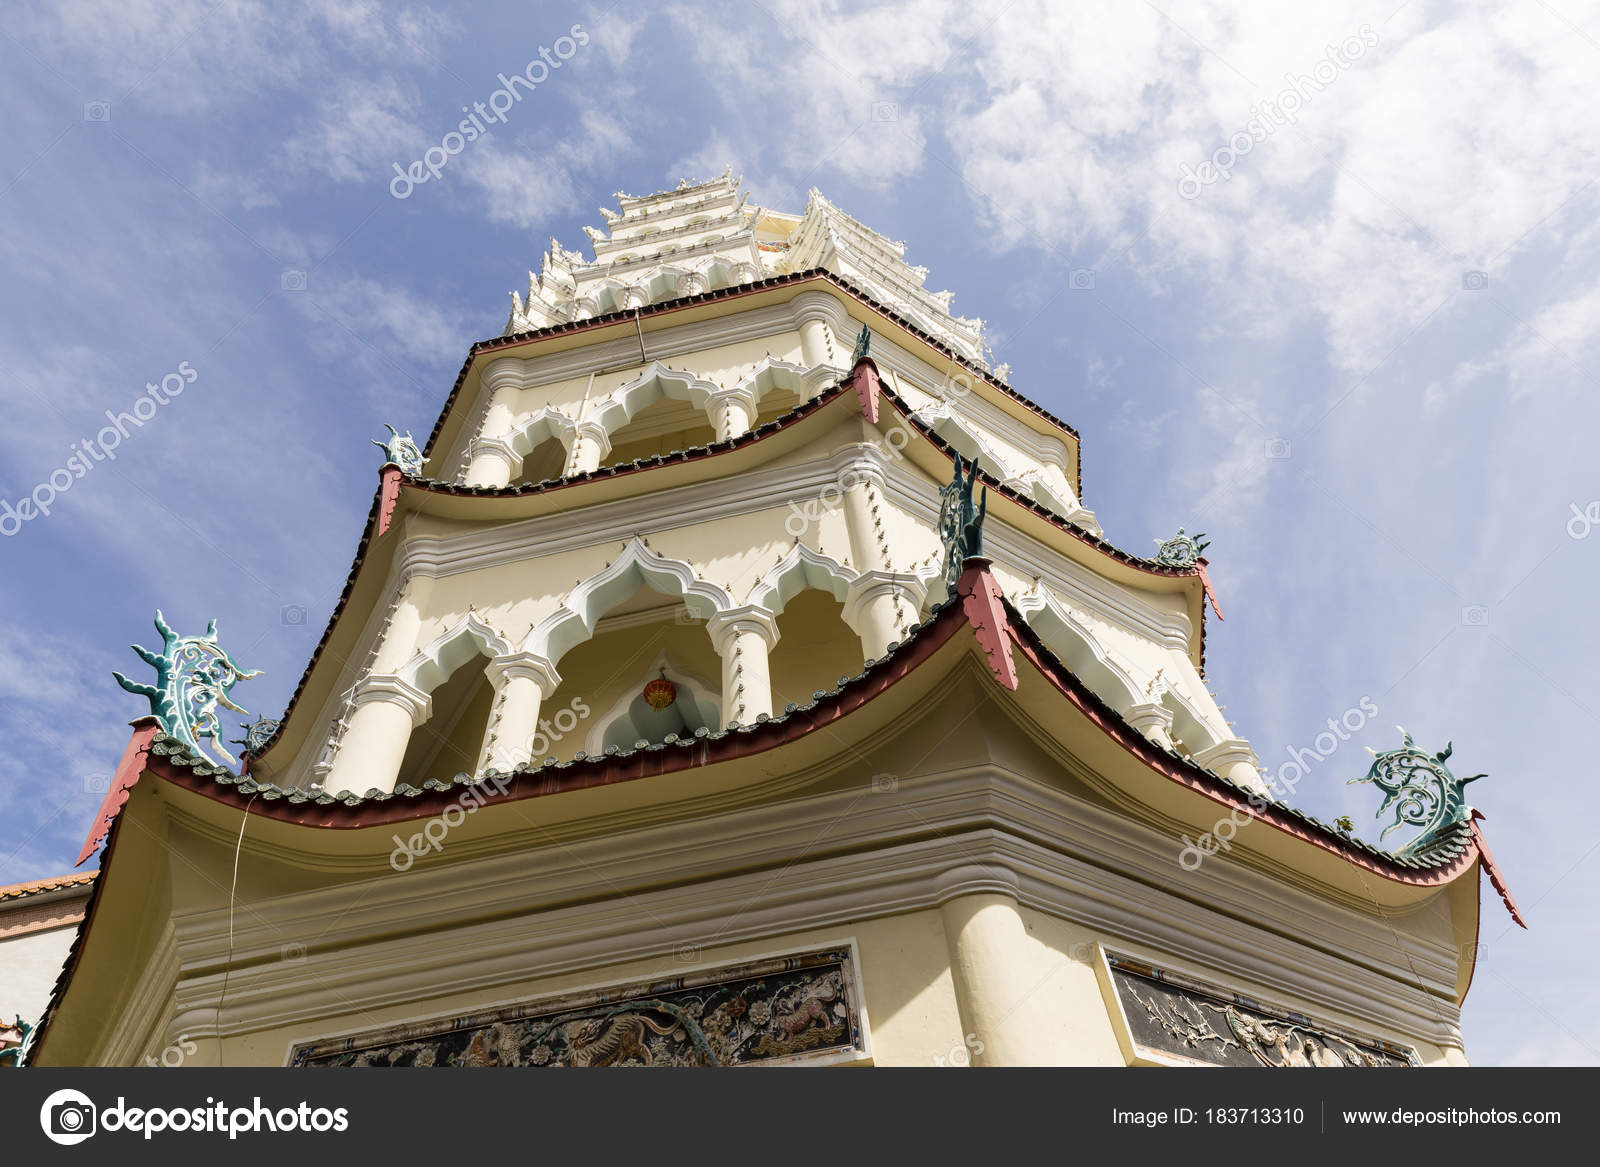Buddhist Temple: (135, 163, 1450, 1046)
